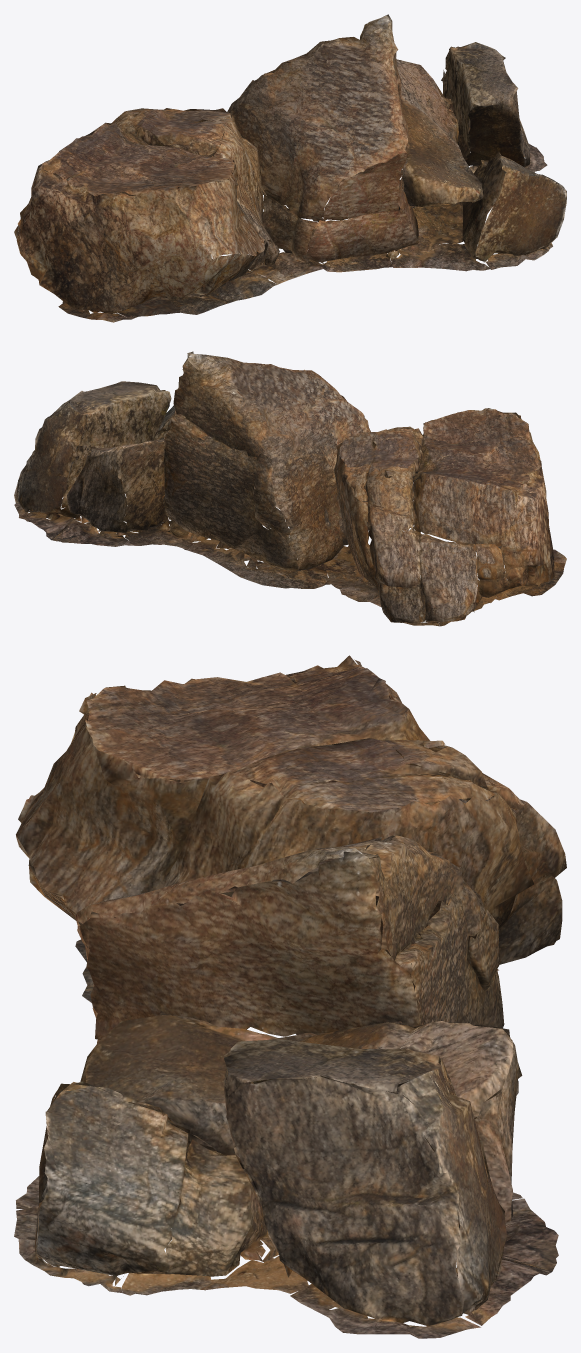
The model's file is namaqualand_boulder_02_LOD1.fbx.
3 renders of one model, top to bottom at view 1: azimuth 30°, elevation 25°; view 2: azimuth 150°, elevation 25°; view 3: azimuth 270°, elevation 25°, orthographic. The views are drawn at different scales.
Parts seen in each view (by area): view 1: namaqualand_boulder_02.001; view 2: namaqualand_boulder_02.001; view 3: namaqualand_boulder_02.001.
Boxes of the visible parts, x1,y1,x2,y2 form: namaqualand_boulder_02.001: (14, 14, 566, 322); namaqualand_boulder_02.001: (14, 351, 566, 626); namaqualand_boulder_02.001: (14, 655, 566, 1338).
Bounding box in the file's own units: 2.53 × 0.8795 × 1.23.
Materials: 1 (1 with a texture image).
